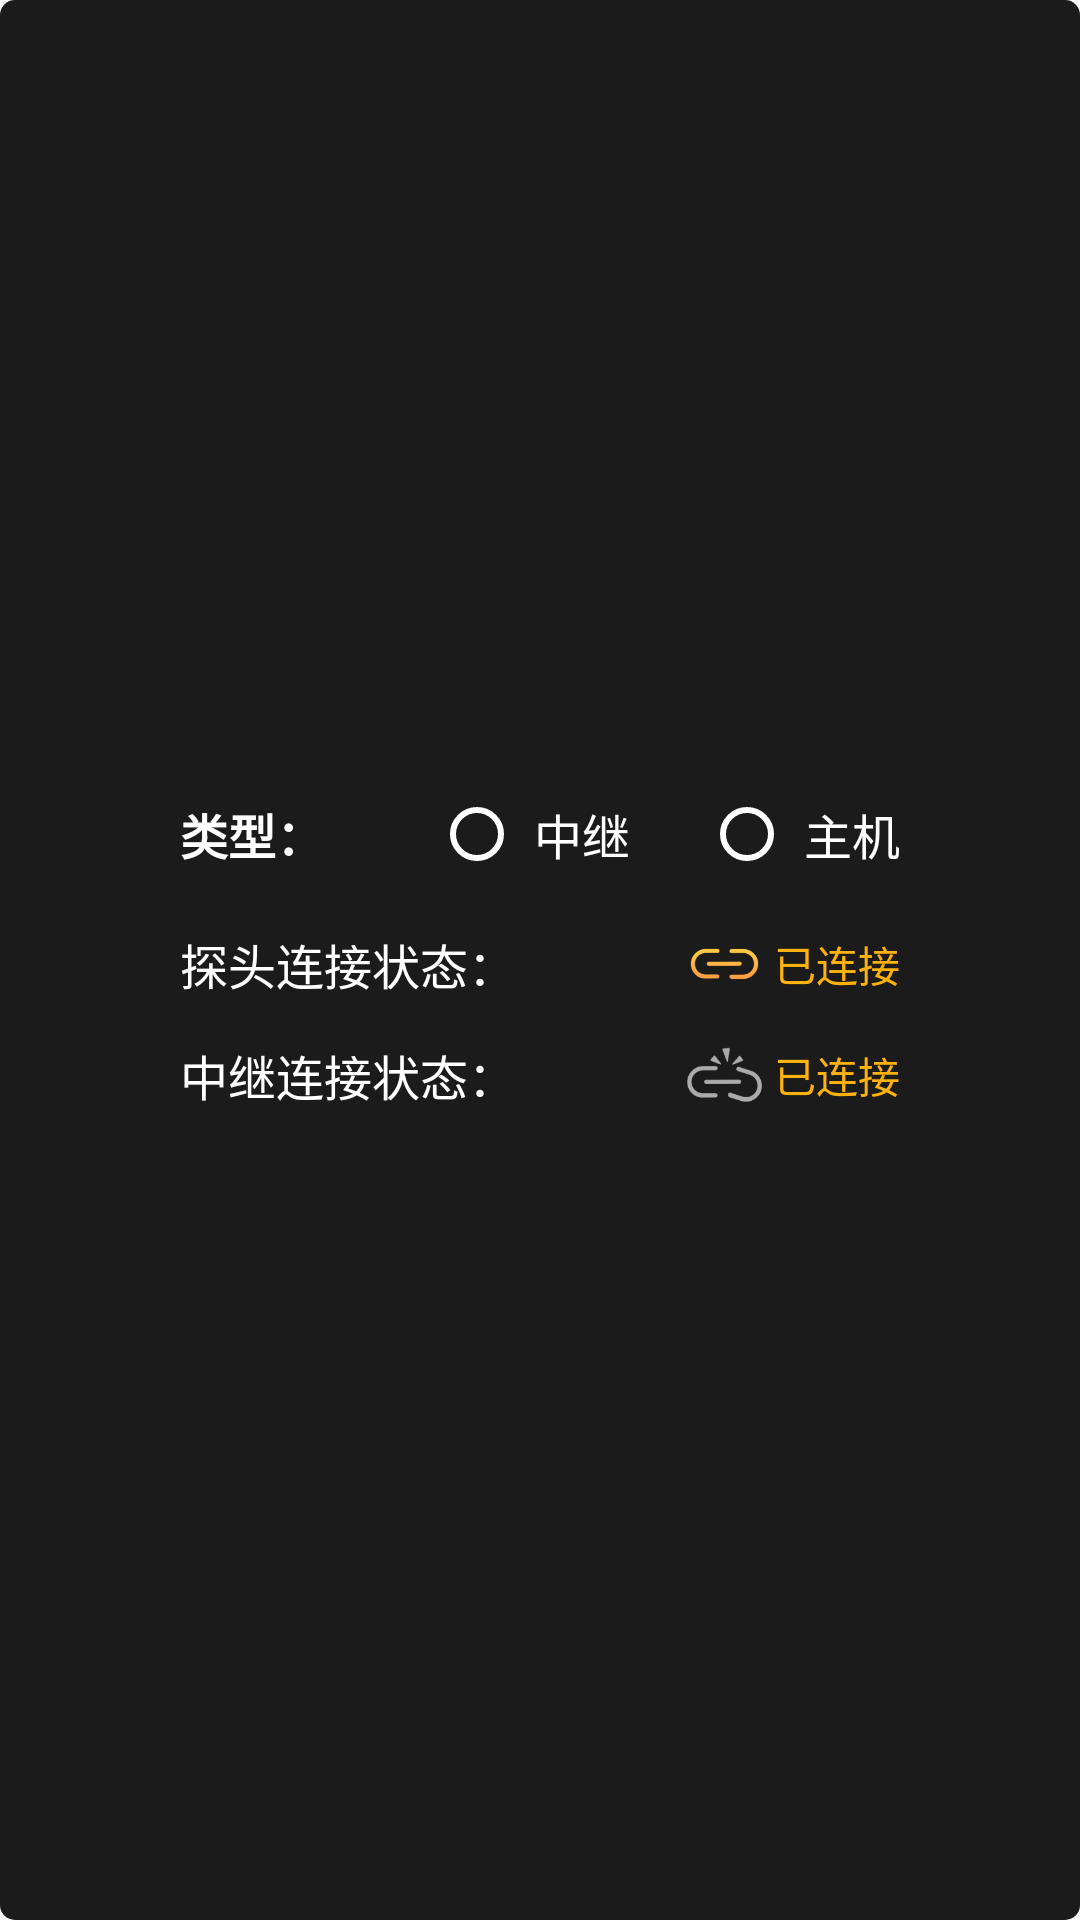

Point at icon controls on the screen. Image size 1080px×1920px, points as point (x, y).
connect: point (724, 963)
dis: point (724, 1075)
